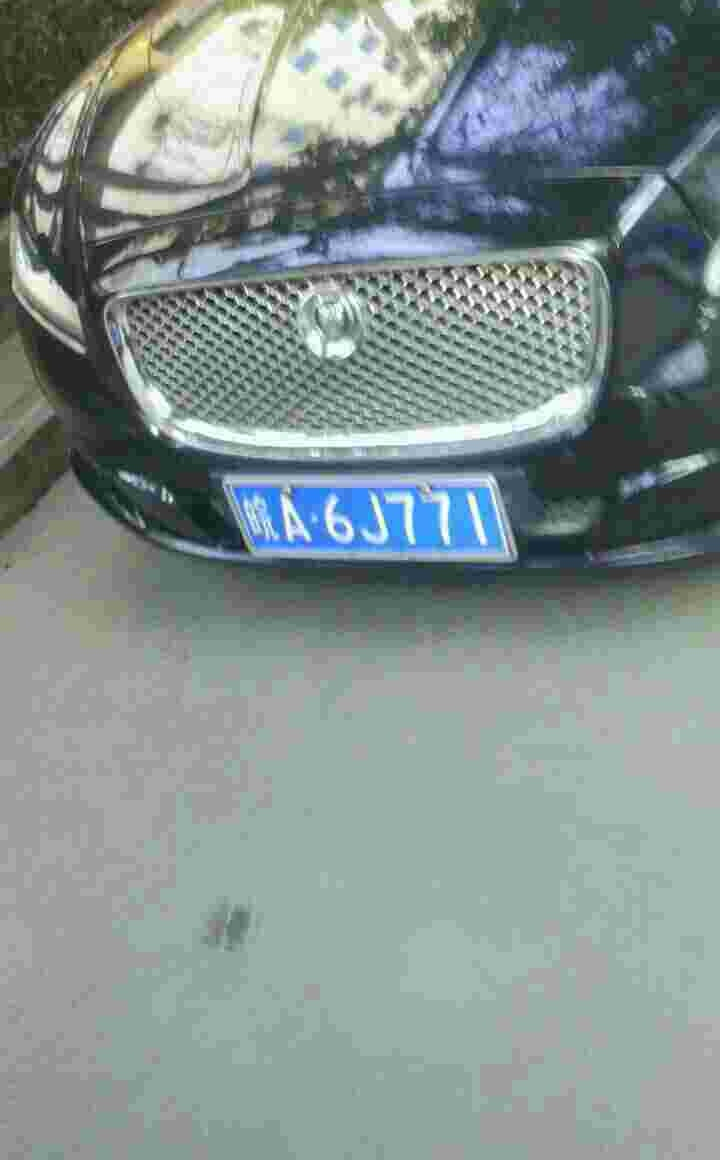plate: (223, 477, 517, 560)
